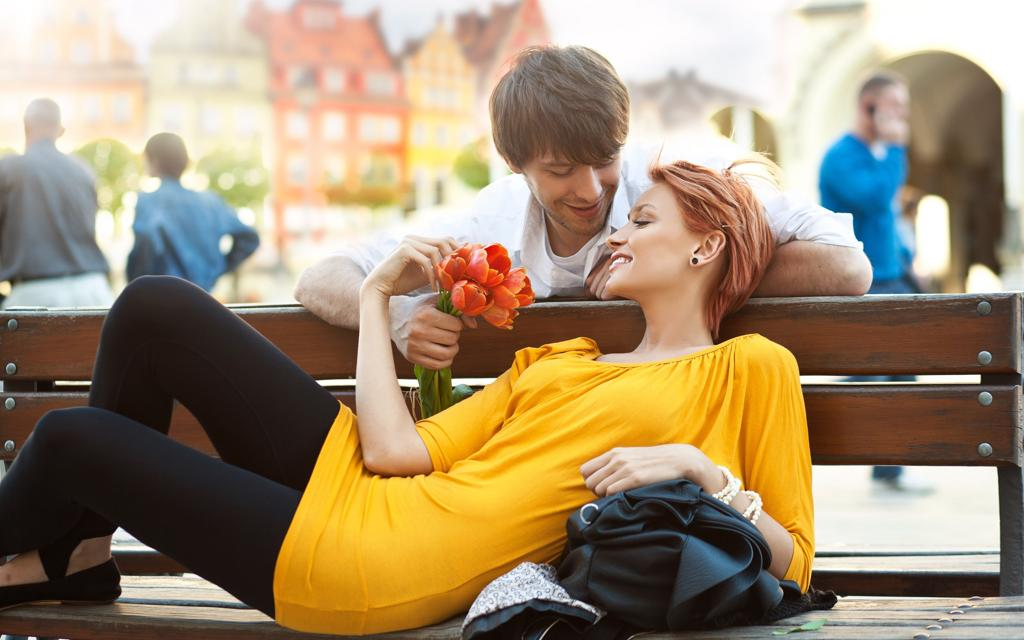face: (530, 122, 624, 236), (608, 168, 690, 290)
